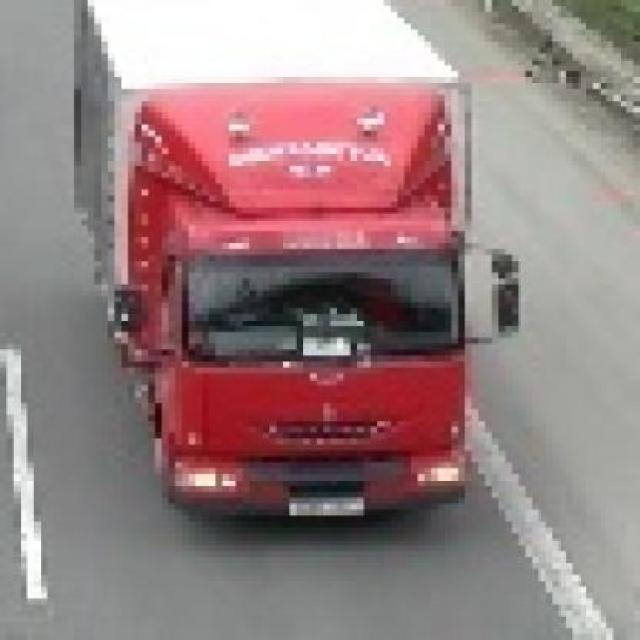truck: (69, 1, 513, 523)
